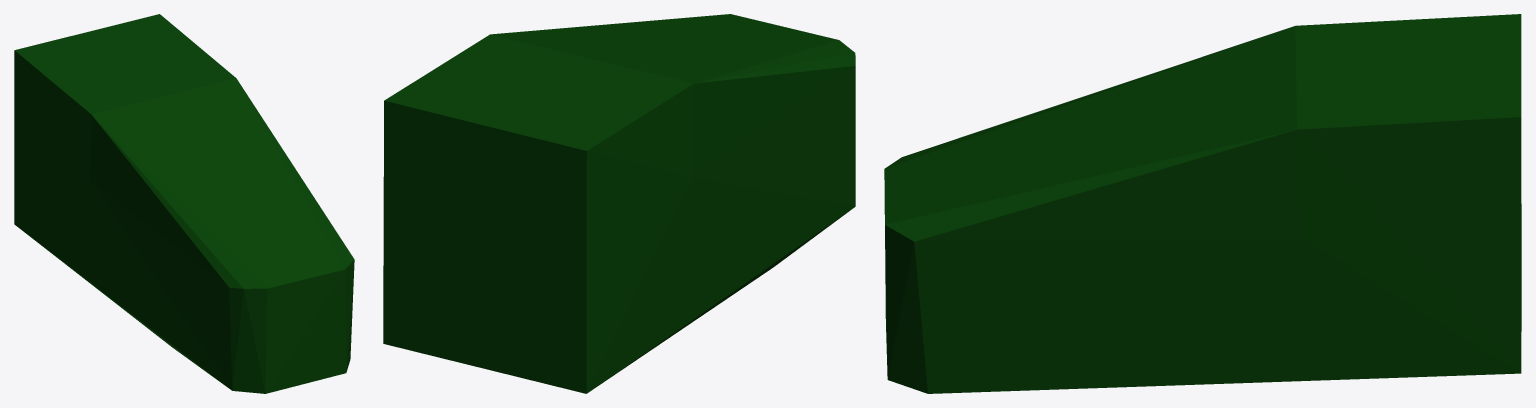
The model's file is finger.obj.
The picture shows the model from 3 angles, left to right: view 1: azimuth 30°, elevation 25°; view 2: azimuth 150°, elevation 25°; view 3: azimuth 270°, elevation 25°; orthographic projection. The views are drawn at different scales.
Parts seen in each view (by area): view 1: <STL_BINARY>; view 2: <STL_BINARY>; view 3: <STL_BINARY>.
Boxes of the visible parts, x1,y1,x2,y2 form: <STL_BINARY>: (14, 14, 354, 393); <STL_BINARY>: (383, 14, 855, 393); <STL_BINARY>: (884, 14, 1521, 393).
Size of the model in its own units: 0.021 by 0.0265 by 0.0537.
